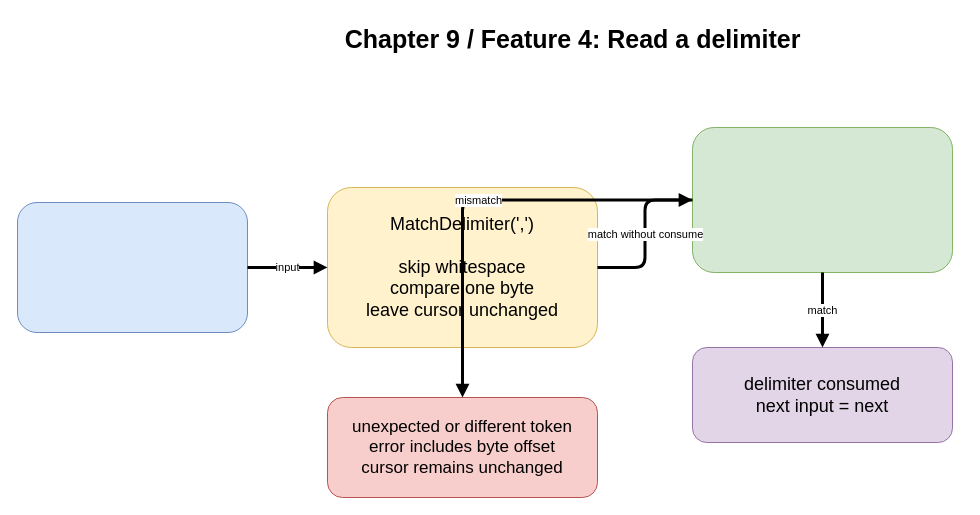
Image size: 980x515. Some labels were removed from this diagram. The box of each missing label's shape, as (x1, y1, x2, y2) in pixels:
EatDelimiter(',') consume one byte only on a match: (692, 126, 952, 272)
SQL input name, next: (16, 202, 248, 332)
